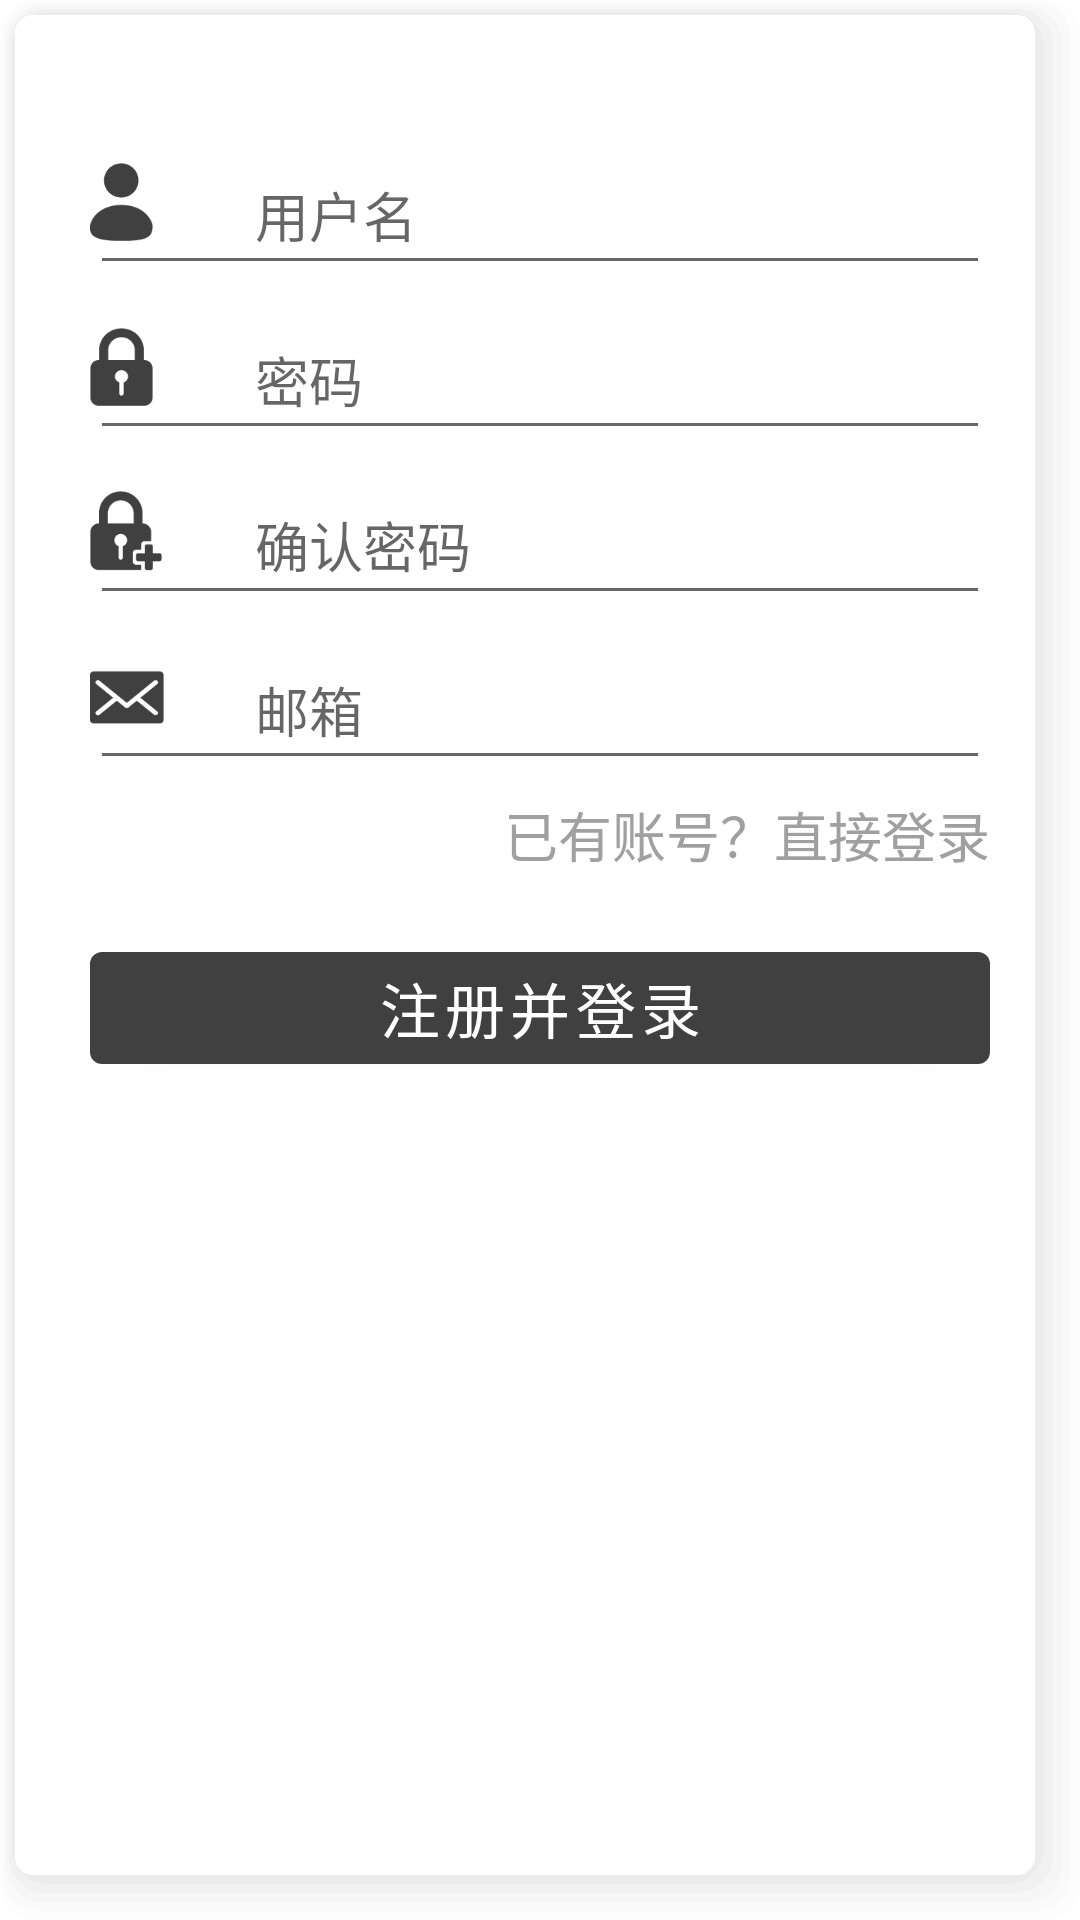

Where to tap for icons on this 1080px x 1920px app screen, as (x,y):
login email: (127,697)
login lock: (121,367)
login lock plus: (126,531)
login user: (121,202)
